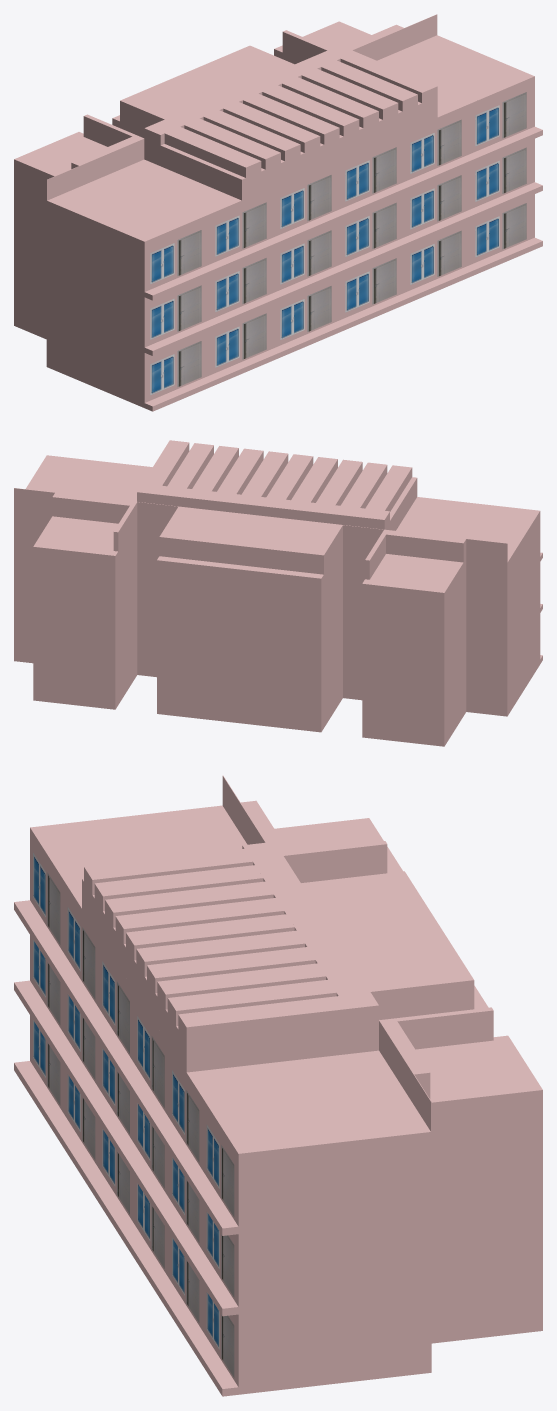
Rendered from unknow7.fbx.
The picture shows the model from 3 angles, top to bottom: view 1: azimuth 30°, elevation 25°; view 2: azimuth 150°, elevation 25°; view 3: azimuth 270°, elevation 25°; orthographic projection. The views are drawn at different scales.
Parts seen in each view (by area): view 1: CityEngineMaterial_m, CityEngineMaterial_2_m, CityEngineMaterial_1_m; view 2: CityEngineMaterial_m; view 3: CityEngineMaterial_m, CityEngineMaterial_2_m, CityEngineMaterial_1_m.
Part boxes in pixels (<box>): CityEngineMaterial_m: <box>14,14,542,411</box>; CityEngineMaterial_2_m: <box>177,92,526,387</box>; CityEngineMaterial_1_m: <box>150,105,499,395</box>; CityEngineMaterial_m: <box>14,440,542,746</box>; CityEngineMaterial_m: <box>14,775,542,1396</box>; CityEngineMaterial_2_m: <box>47,872,234,1377</box>; CityEngineMaterial_1_m: <box>33,852,219,1349</box>.
Size of the model in its own units: 49.89 by 19 by 31.84.
